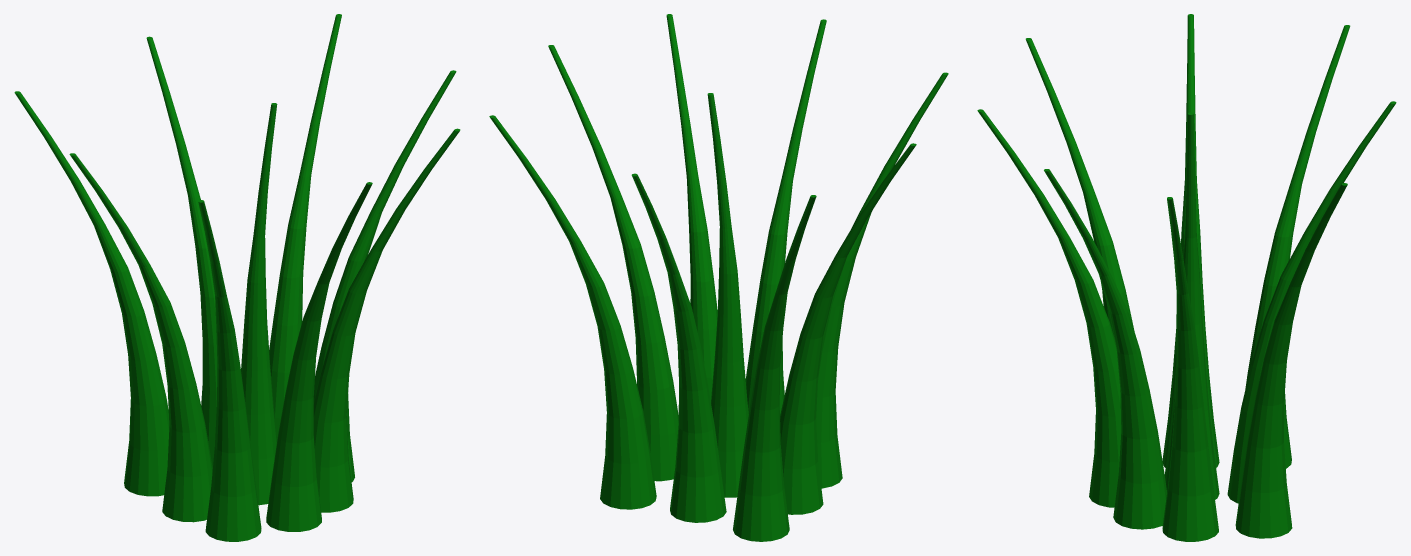
File: _rass.fbx
3 views of the same model, side by side, from view 1: azimuth 30°, elevation 25°; view 2: azimuth 150°, elevation 25°; view 3: azimuth 270°, elevation 25° (orthographic).
Visible parts, largest first — view 1: Cylinder.006, Cylinder.001, Cylinder.004, Cylinder.007, Cylinder.008, Cylinder, Cylinder.005, Cylinder.002, Cylinder.003; view 2: Cylinder.005, Cylinder.006, Cylinder.002, Cylinder.003, Cylinder.001, Cylinder, Cylinder.007, Cylinder.008, Cylinder.004; view 3: Cylinder.005, Cylinder.008, Cylinder.003, Cylinder.004, Cylinder.002, Cylinder.006, Cylinder, Cylinder.007, Cylinder.001.
Boxes of the visible parts, x1,y1,x2,y2 form: Cylinder.006: (14, 91, 169, 496); Cylinder.001: (69, 153, 212, 522); Cylinder.004: (266, 182, 372, 531); Cylinder.007: (198, 200, 261, 541); Cylinder.008: (313, 128, 460, 512); Cylinder: (241, 103, 277, 505); Cylinder.005: (269, 14, 341, 439); Cylinder.002: (146, 36, 217, 468); Cylinder.003: (313, 70, 456, 481); Cylinder.005: (489, 115, 656, 509); Cylinder.006: (733, 195, 816, 541); Cylinder.002: (631, 173, 726, 522); Cylinder.003: (548, 45, 678, 481); Cylinder.001: (780, 143, 916, 514); Cylinder: (707, 93, 748, 497); Cylinder.007: (816, 72, 948, 488); Cylinder.008: (666, 14, 717, 401); Cylinder.004: (745, 19, 826, 415); Cylinder.005: (1235, 183, 1347, 538); Cylinder.008: (1044, 169, 1166, 529); Cylinder.003: (1162, 197, 1218, 541); Cylinder.004: (977, 109, 1121, 507); Cylinder.002: (1227, 101, 1396, 503); Cylinder.006: (1245, 25, 1350, 468); Cylinder: (1164, 112, 1219, 499); Cylinder.007: (1025, 38, 1134, 336); Cylinder.001: (1162, 14, 1219, 467).
Size of the model in its own units: 76.55 by 75.11 by 73.09.
